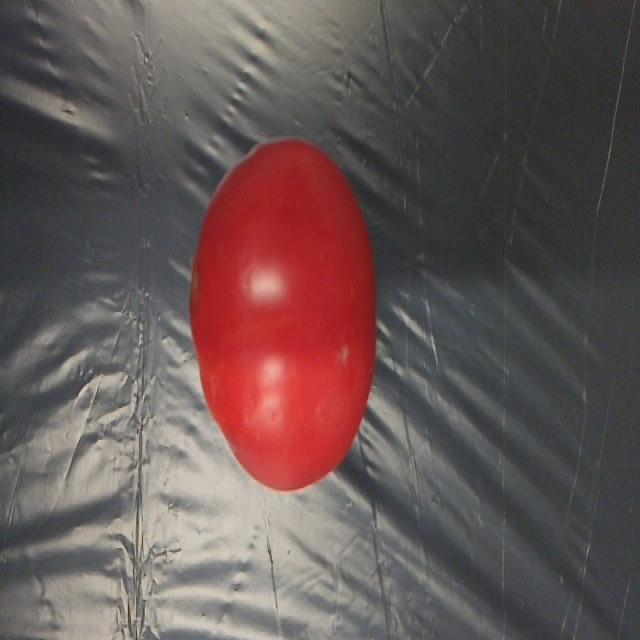kirmizi: (177, 131, 394, 482)
